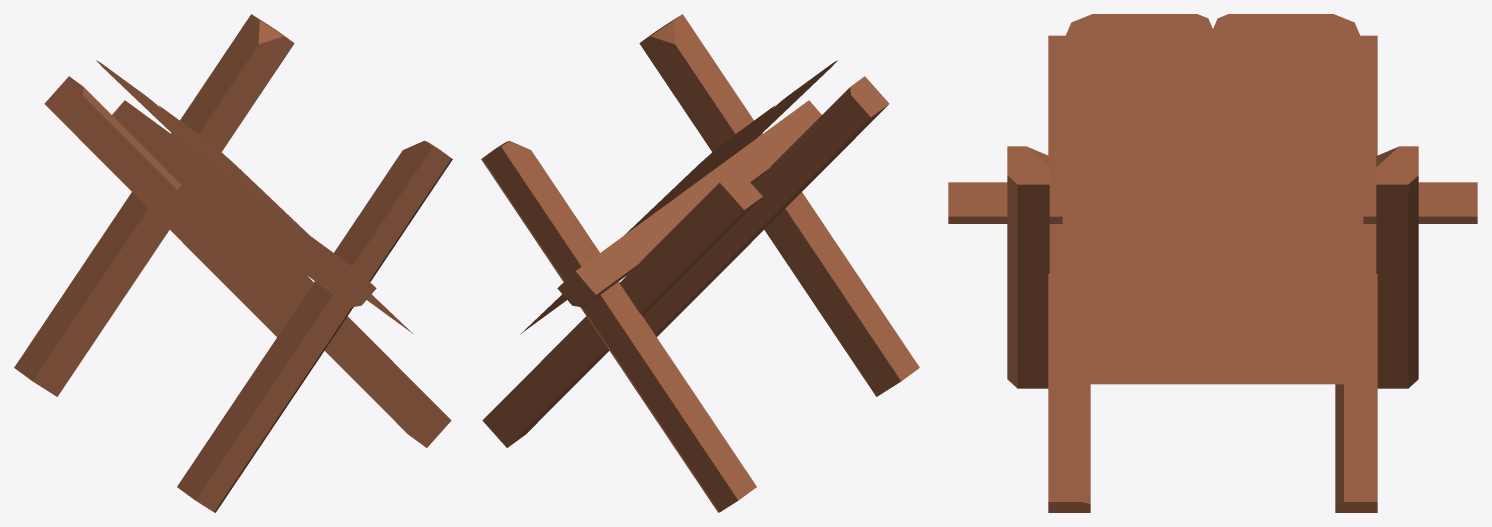
The model's file is prop2.fbx.
3 views of the same model, side by side, from view 1: azimuth 30°, elevation 25°; view 2: azimuth 150°, elevation 25°; view 3: azimuth 270°, elevation 25° (orthographic). The views are drawn at different scales.
Visible parts, largest first — view 1: Cube.016; view 2: Cube.016; view 3: Cube.016.
Boxes of the visible parts, <box> form: Cube.016: <box>14,14,452,512</box>; Cube.016: <box>481,14,919,512</box>; Cube.016: <box>948,14,1477,512</box>.
Size of the model in its own units: 86.26 by 103 by 127.
